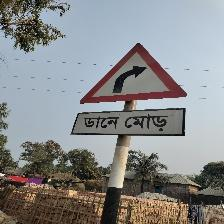Right-turn: (73, 43, 189, 137)
